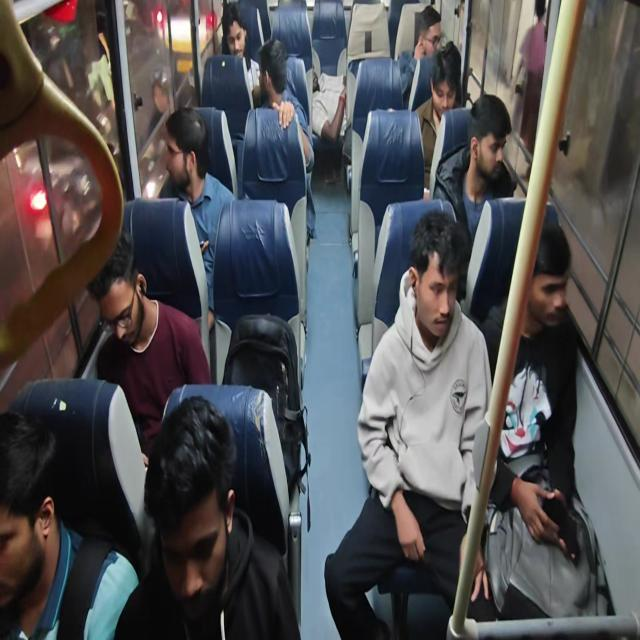person: (324, 208, 493, 638), (465, 214, 604, 621), (0, 0, 124, 379), (113, 394, 301, 639), (0, 409, 139, 638), (86, 228, 212, 468), (162, 106, 236, 330), (252, 38, 316, 240), (432, 92, 516, 245), (413, 41, 462, 171), (514, 0, 548, 176), (396, 5, 442, 101), (220, 2, 260, 108), (147, 66, 172, 136), (220, 2, 247, 56)
